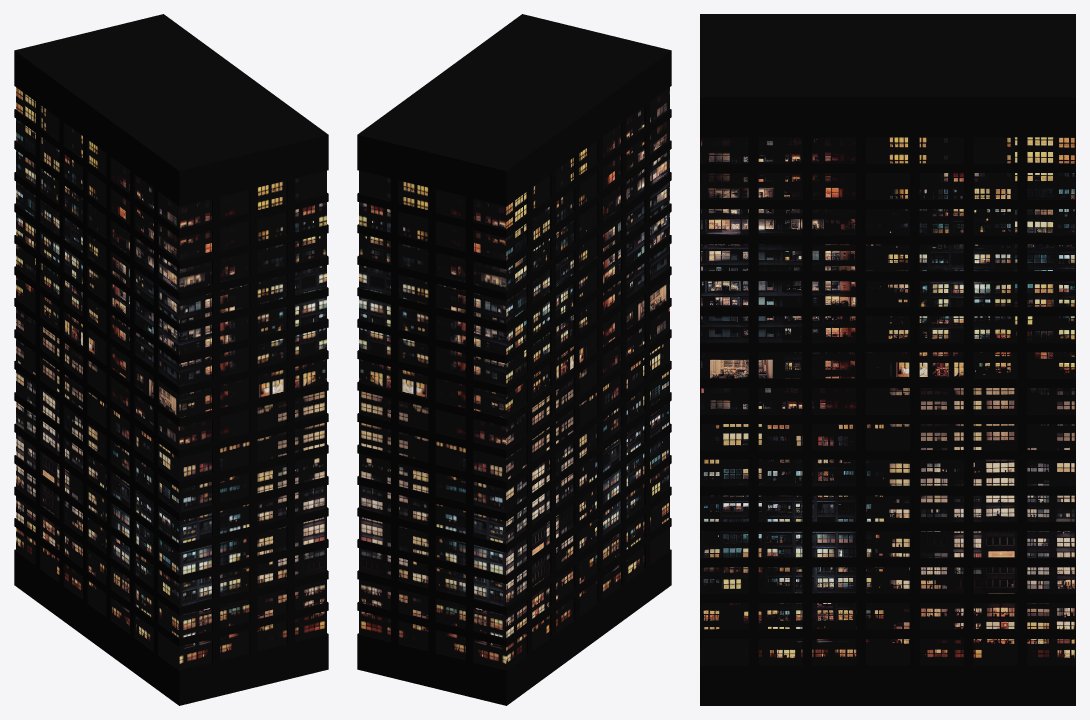
3 views of the same model, side by side, from view 1: azimuth 30°, elevation 25°; view 2: azimuth 150°, elevation 25°; view 3: azimuth 270°, elevation 25° (orthographic). The views are drawn at different scales.
Parts seen in each view (by area): view 1: Cube; view 2: Cube; view 3: Cube.
Part boxes in pixels (x1=…): Cube: x1=14, y1=14, x2=328, y2=705; Cube: x1=357, y1=14, x2=671, y2=705; Cube: x1=700, y1=14, x2=1075, y2=705.
Size of the model in its own units: 8.22 by 28.15 by 15.74.
3 materials, 1 textured.
